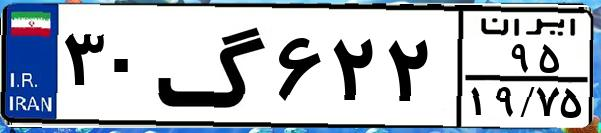0: (110, 28, 156, 98)
1: (470, 70, 495, 125)
2: (385, 28, 445, 110), (330, 28, 385, 110)
3: (57, 26, 110, 100)
5: (560, 70, 590, 125), (537, 27, 568, 80)
6: (270, 28, 330, 110)
7: (535, 70, 560, 125)
9: (508, 27, 537, 80), (495, 70, 520, 125)
گ: (156, 12, 270, 120)
